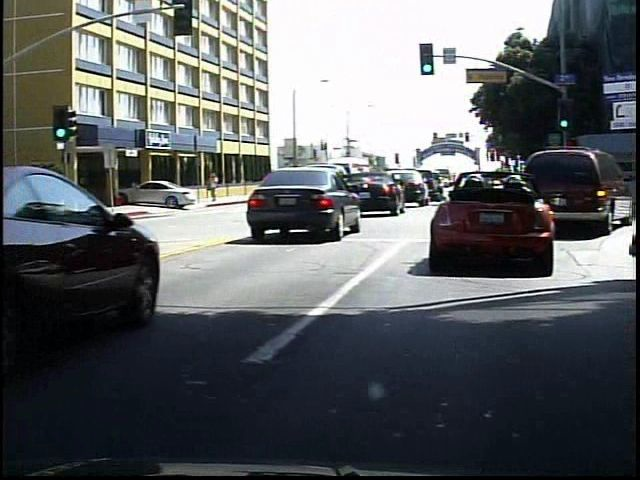person: (199, 168, 218, 202)
